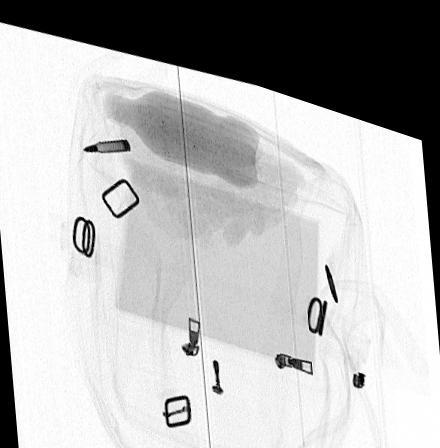Bullet: (79, 130, 131, 148)
